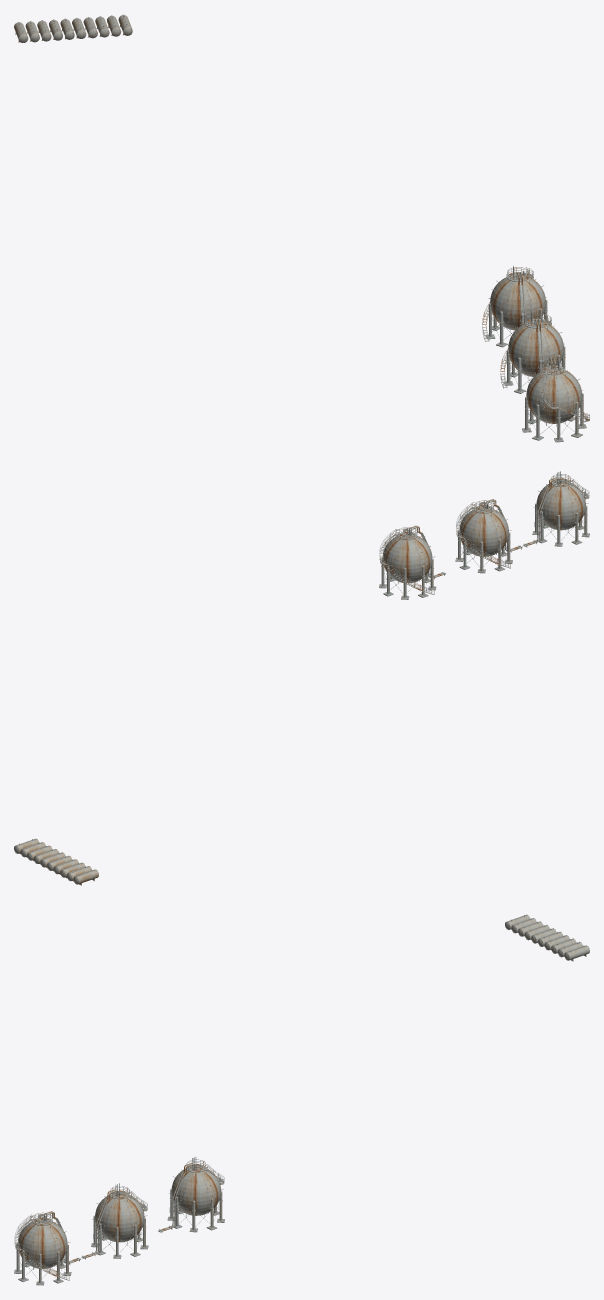
Rendered from youguan_04_02.fbx.
3 renders of one model, top to bottom at view 1: azimuth 30°, elevation 25°; view 2: azimuth 150°, elevation 25°; view 3: azimuth 330°, elevation 25°, orthographic. The views are drawn at different scales.
Parts seen in each view (by area): view 1: Youguan_04_02; view 2: Youguan_04_02; view 3: Youguan_04_02.
Boxes of the visible parts, box(x1,y1,x2,y2) form: Youguan_04_02: box(14, 14, 589, 442); Youguan_04_02: box(14, 471, 589, 885); Youguan_04_02: box(14, 914, 589, 1285).
Bounding box in the file's own units: 5519 × 2995 × 43396.
